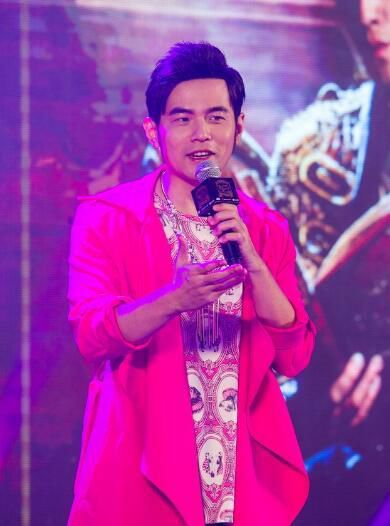face: (161, 75, 234, 181)
